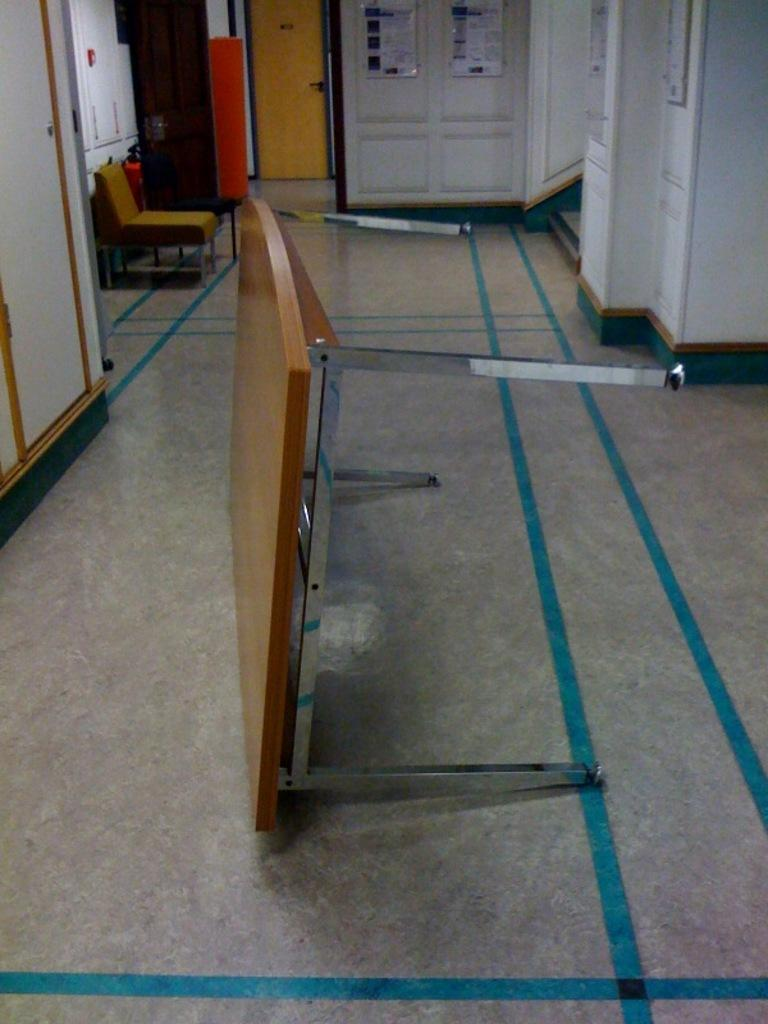Chair: (92, 159, 218, 289)
